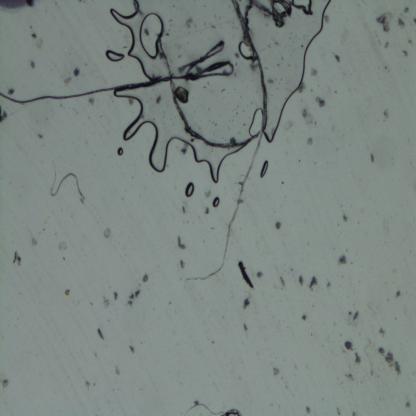Air bubble: (102, 0, 331, 173), (138, 13, 163, 58), (291, 0, 316, 17), (248, 106, 263, 134), (236, 40, 252, 61), (105, 48, 125, 62), (259, 162, 270, 180), (184, 182, 194, 198), (212, 196, 221, 208), (117, 147, 124, 157)
Background material: (377, 347, 403, 378), (236, 258, 255, 290), (376, 11, 394, 34), (300, 108, 316, 128), (127, 290, 143, 308), (176, 86, 190, 104), (11, 249, 24, 268), (240, 293, 254, 308), (314, 94, 327, 108), (184, 18, 196, 32), (343, 339, 354, 354), (57, 240, 68, 255), (308, 273, 318, 289), (352, 351, 362, 367), (297, 80, 308, 94), (177, 235, 187, 250), (0, 107, 8, 125), (96, 326, 106, 340), (338, 253, 348, 267), (382, 105, 390, 121), (398, 17, 406, 33), (283, 120, 293, 132), (348, 311, 360, 321), (180, 142, 190, 154), (6, 86, 16, 98), (102, 296, 111, 309), (102, 227, 112, 238), (203, 189, 213, 200), (368, 152, 376, 165), (113, 363, 121, 376), (332, 52, 341, 63), (306, 137, 315, 148), (324, 13, 331, 27), (64, 76, 72, 88), (29, 58, 37, 70), (179, 258, 187, 270), (279, 275, 286, 288), (305, 403, 312, 416), (1, 378, 10, 388), (30, 238, 40, 247), (127, 344, 136, 354), (113, 290, 121, 301), (272, 366, 280, 377), (298, 274, 304, 288), (242, 322, 249, 334), (256, 270, 265, 279), (274, 221, 282, 231), (310, 66, 317, 77), (73, 67, 80, 78), (142, 274, 149, 285), (155, 93, 162, 104), (180, 204, 186, 216), (384, 39, 390, 51), (378, 327, 386, 336), (204, 206, 211, 216), (341, 213, 348, 223), (300, 314, 308, 322), (402, 48, 408, 58), (32, 31, 38, 41), (402, 7, 410, 14), (394, 292, 401, 300), (64, 288, 70, 297), (412, 18, 416, 26)
Cellulose filter fibre: (182, 0, 269, 283), (152, 38, 258, 147), (47, 158, 85, 198), (245, 1, 291, 25), (226, 403, 242, 416)
Microfibre: (0, 39, 234, 104)
Pen: (0, 0, 32, 14)
